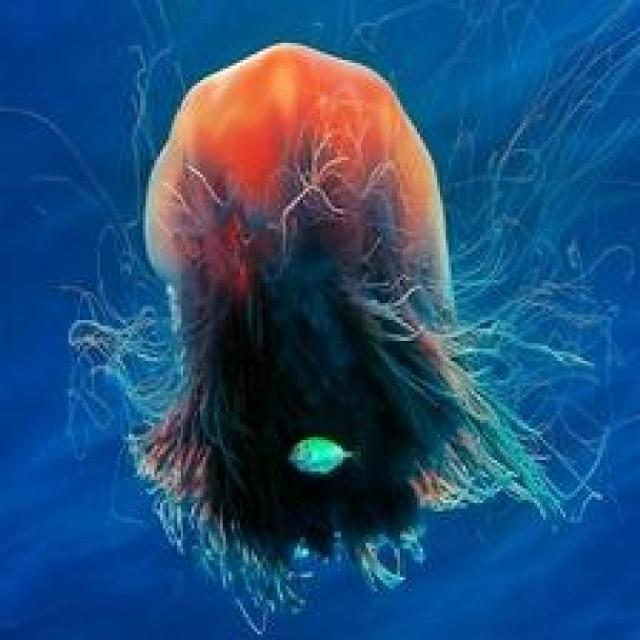Human: (66, 37, 588, 632)
